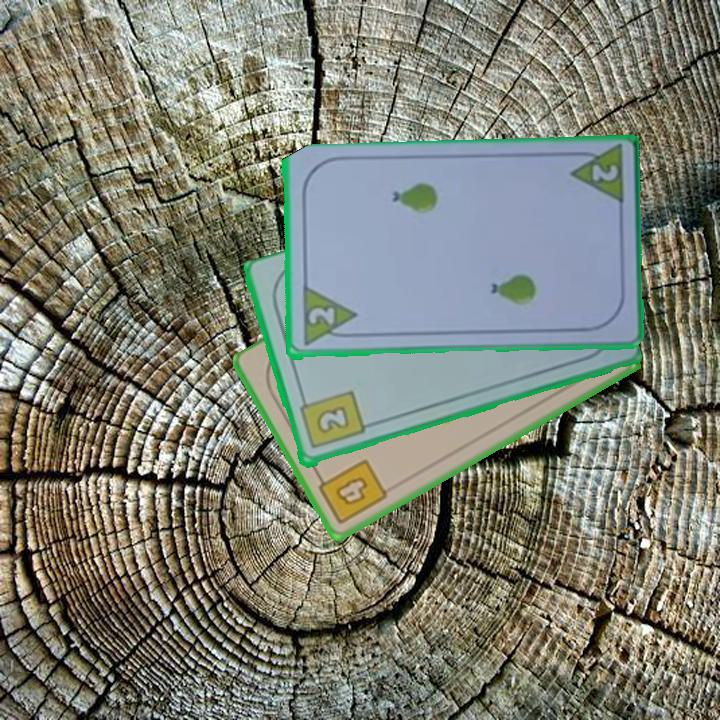2b: (295, 388, 367, 452)
2p: (564, 144, 627, 209), (298, 285, 359, 350)
4b: (312, 456, 391, 528)
